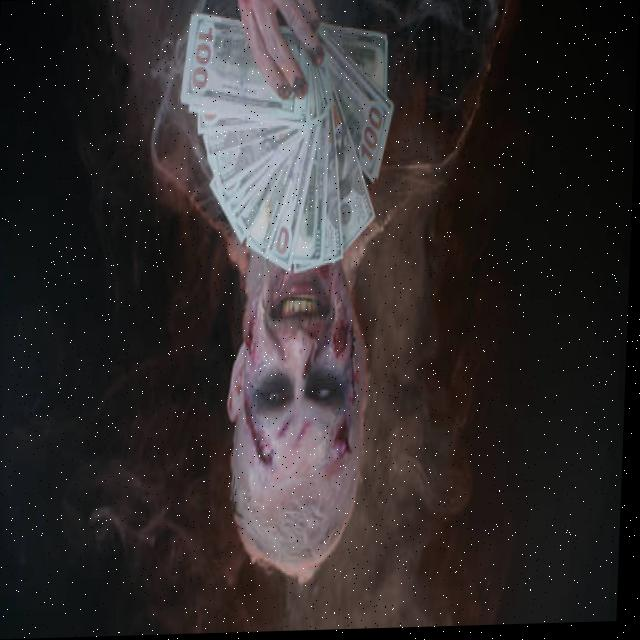Zombie: (234, 236, 371, 545)
